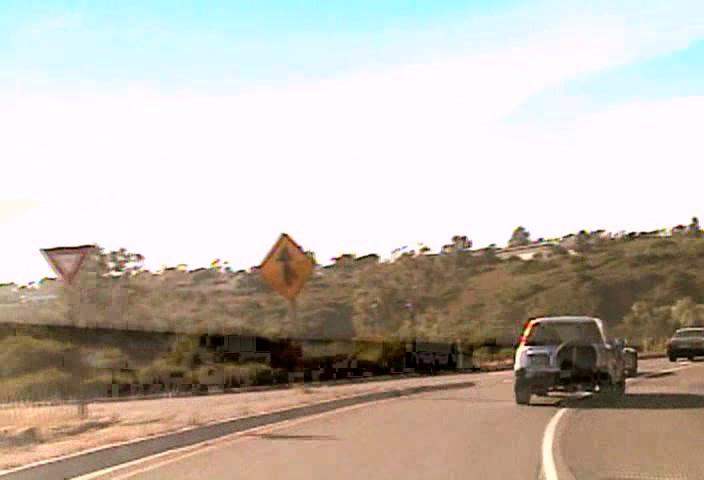yield: (39, 243, 91, 284)
